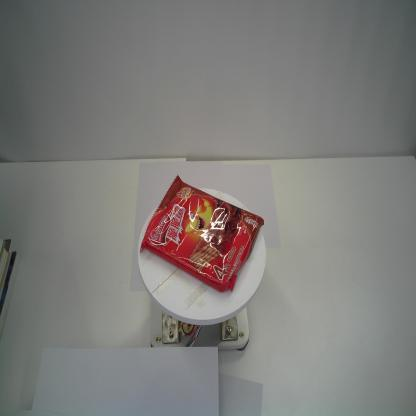Dessert: (138, 174, 265, 293)
